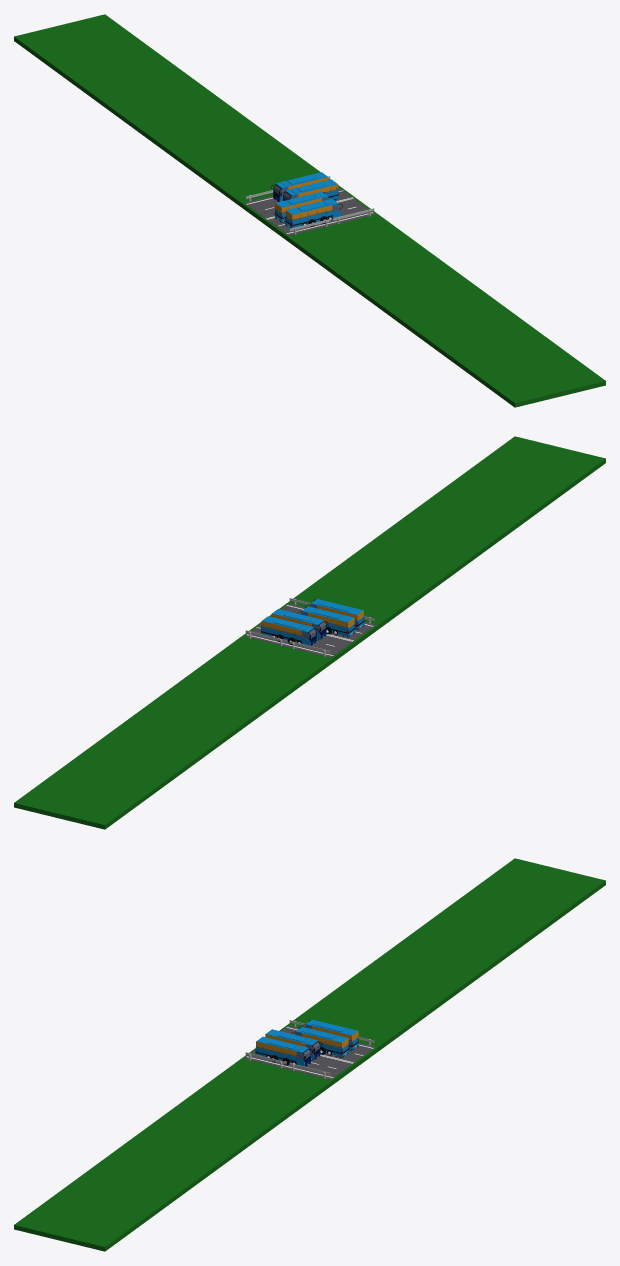
The model's file is road_piece_reference.gltf.
3 renders of one model, top to bottom at view 1: azimuth 30°, elevation 25°; view 2: azimuth 150°, elevation 25°; view 3: azimuth 330°, elevation 25°, orthographic.
Visible parts, largest first — view 1: CSGBox3D23, CSGBox3D2, Bus8, Bus2; view 2: CSGBox3D23, CSGBox3D2, Bus4, Bus6; view 3: CSGBox3D23, CSGBox3D2, Bus8, Bus2.
Boxes of the visible parts, x1,y1,x2,y2 form: CSGBox3D23: [14, 14, 605, 407]; CSGBox3D2: [244, 187, 375, 235]; Bus8: [285, 199, 342, 228]; Bus2: [281, 179, 338, 200]; CSGBox3D23: [14, 436, 605, 829]; CSGBox3D2: [244, 603, 375, 657]; Bus4: [260, 616, 318, 645]; Bus6: [297, 606, 355, 636]; CSGBox3D23: [14, 858, 605, 1251]; CSGBox3D2: [244, 1025, 375, 1079]; Bus8: [255, 1036, 312, 1066]; Bus2: [291, 1026, 349, 1056].
Bounding box in the file's own units: 21 × 4.64 × 200.
